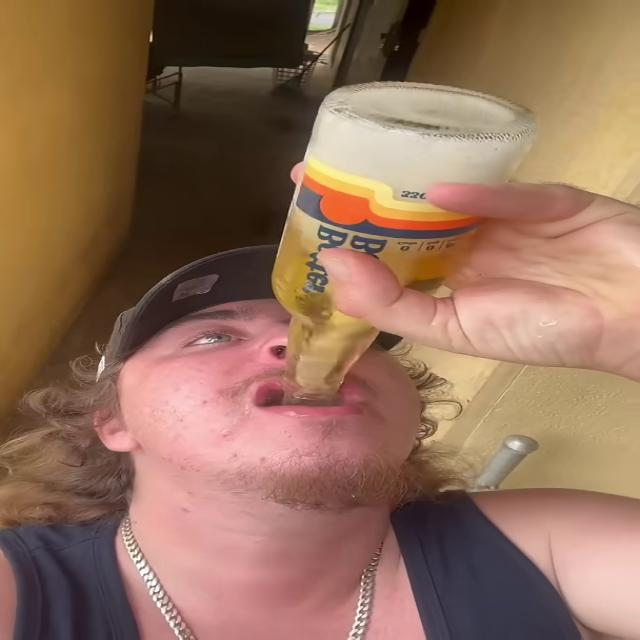Bottle: (271, 82, 538, 398)
Hand: (240, 141, 640, 382)
Mouth: (228, 368, 390, 425)
